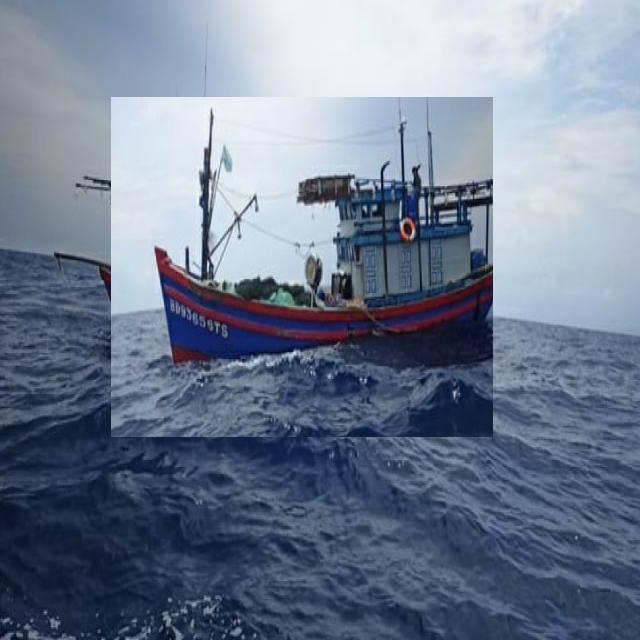Fishing Boat: (111, 98, 493, 438)
